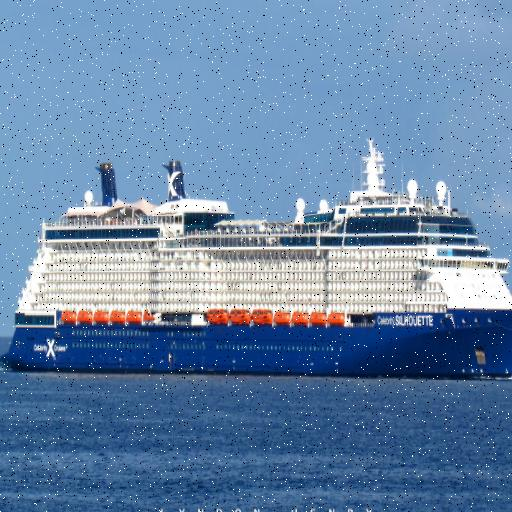cruises: (1, 137, 512, 390)
